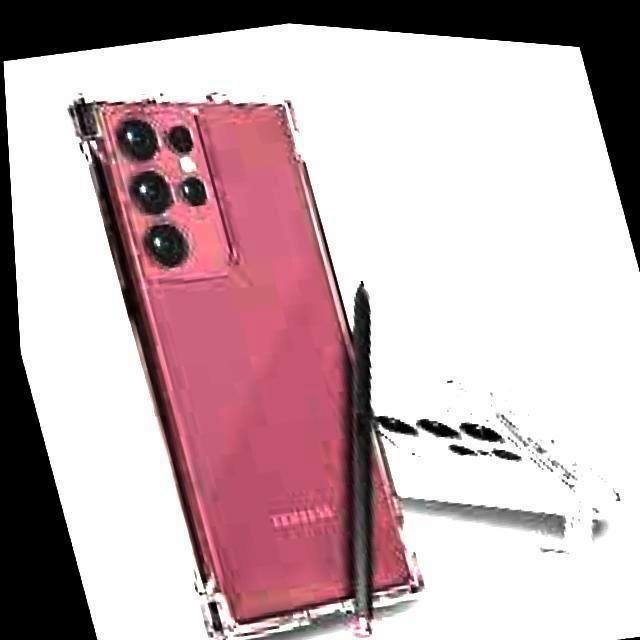lens_back: (140, 223, 193, 271), (128, 167, 176, 216), (114, 118, 161, 163), (166, 121, 194, 157), (180, 174, 210, 207)
phone: (72, 82, 426, 628)
